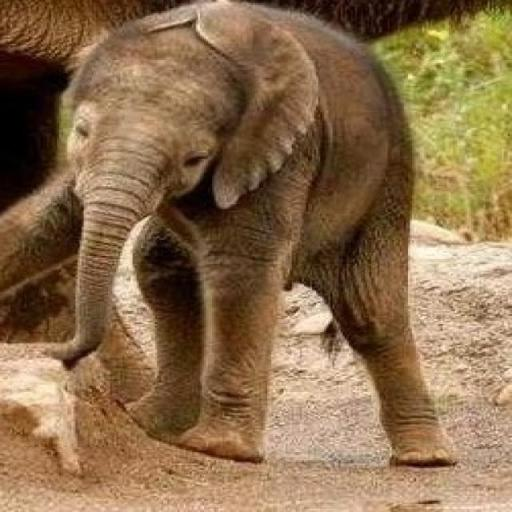Elephant: (0, 0, 457, 470)
